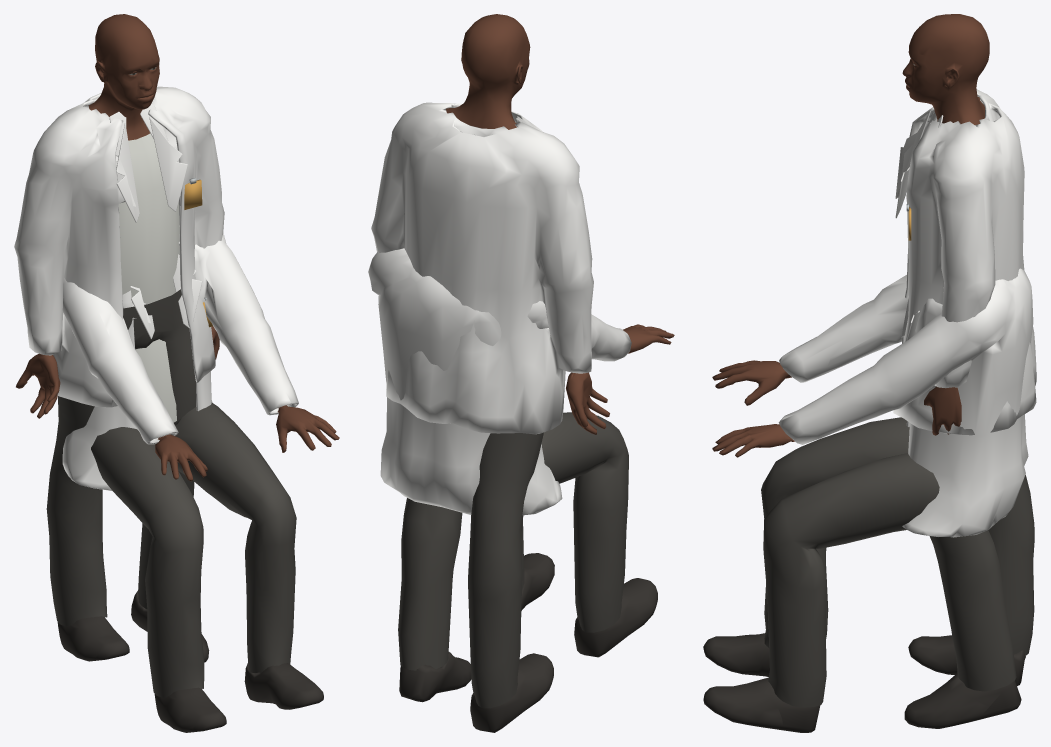
File: doctor-04-middle.glb
The picture shows the model from 3 angles, left to right: view 1: azimuth 30°, elevation 25°; view 2: azimuth 150°, elevation 25°; view 3: azimuth 270°, elevation 25°; orthographic projection. The views are drawn at different scales.
Visible parts, largest first — view 1: Doctor anatomy and wardrobe.001, Doctor anatomy and wardrobe.003; view 2: Doctor anatomy and wardrobe.001, Doctor anatomy and wardrobe.003; view 3: Doctor anatomy and wardrobe.003, Doctor anatomy and wardrobe.001.
Boxes of the visible parts, left/top/right/bottom form: Doctor anatomy and wardrobe.001: left=14, top=14, right=224, bottom=662; Doctor anatomy and wardrobe.003: left=62, top=234, right=339, bottom=732; Doctor anatomy and wardrobe.001: left=371, top=14, right=609, bottom=732; Doctor anatomy and wardrobe.003: left=368, top=248, right=674, bottom=657; Doctor anatomy and wardrobe.003: left=703, top=268, right=1033, bottom=732; Doctor anatomy and wardrobe.001: left=893, top=14, right=1036, bottom=728.
Size of the model in its own units: 0.6228 by 1.84 by 0.8223.
